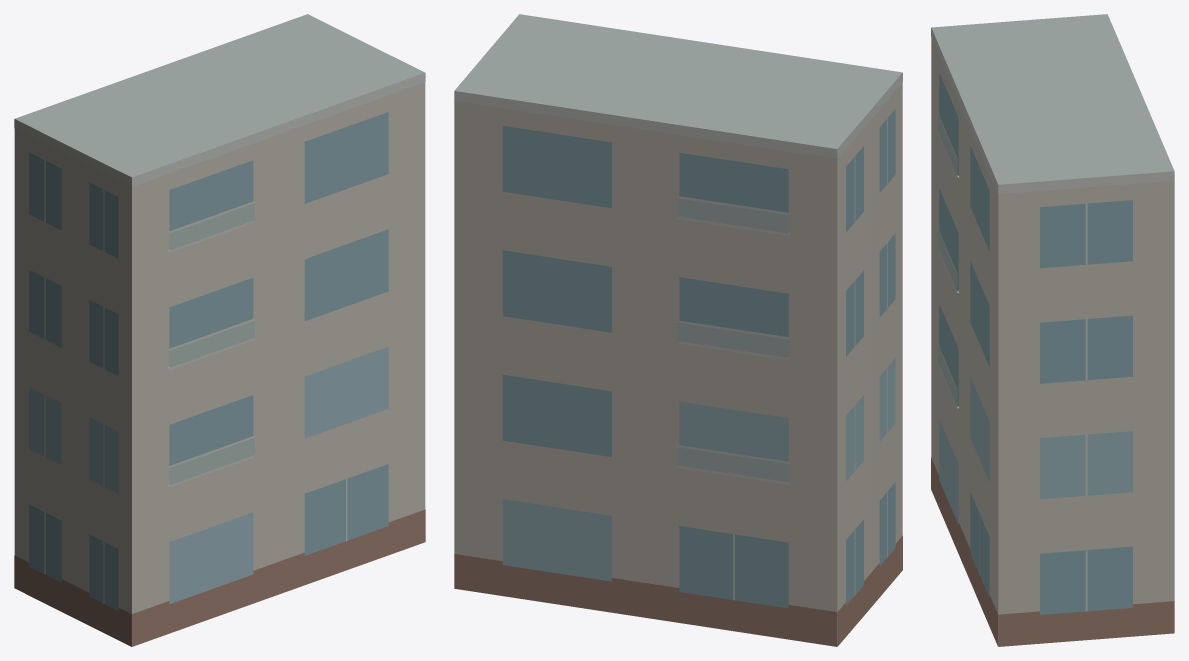
File: residential-425ae4ba-da11-4505-8053-1d5cb475816f.glb
3 views of the same model, side by side, from view 1: azimuth 30°, elevation 25°; view 2: azimuth 150°, elevation 25°; view 3: azimuth 270°, elevation 25° (orthographic). The views are drawn at different scales.
Parts seen in each view (by area): view 1: residential-425ae4ba-da11-4505-8053-1d5cb475816f.tmp; view 2: residential-425ae4ba-da11-4505-8053-1d5cb475816f.tmp; view 3: residential-425ae4ba-da11-4505-8053-1d5cb475816f.tmp.
Boxes of the visible parts, bbox=[...] form: residential-425ae4ba-da11-4505-8053-1d5cb475816f.tmp: bbox=[14, 14, 425, 646]; residential-425ae4ba-da11-4505-8053-1d5cb475816f.tmp: bbox=[454, 14, 902, 646]; residential-425ae4ba-da11-4505-8053-1d5cb475816f.tmp: bbox=[931, 14, 1174, 646].
Size of the model in its own units: 9.68 by 12.2 by 5.83.
